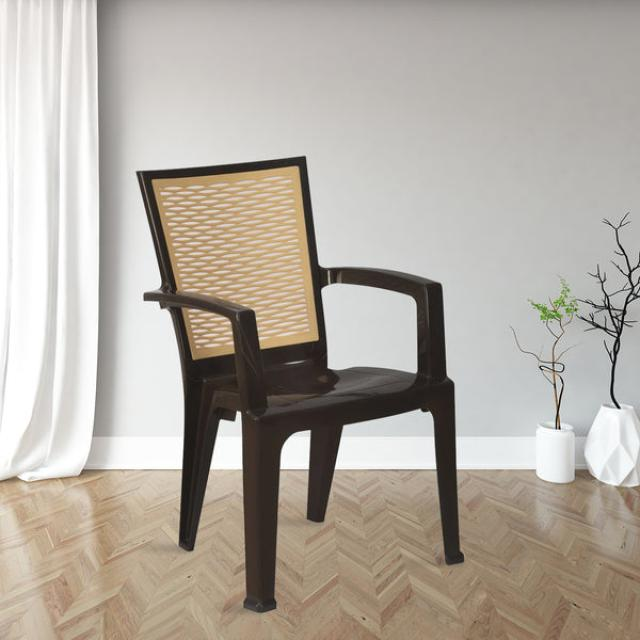chair: (94, 116, 495, 619)
